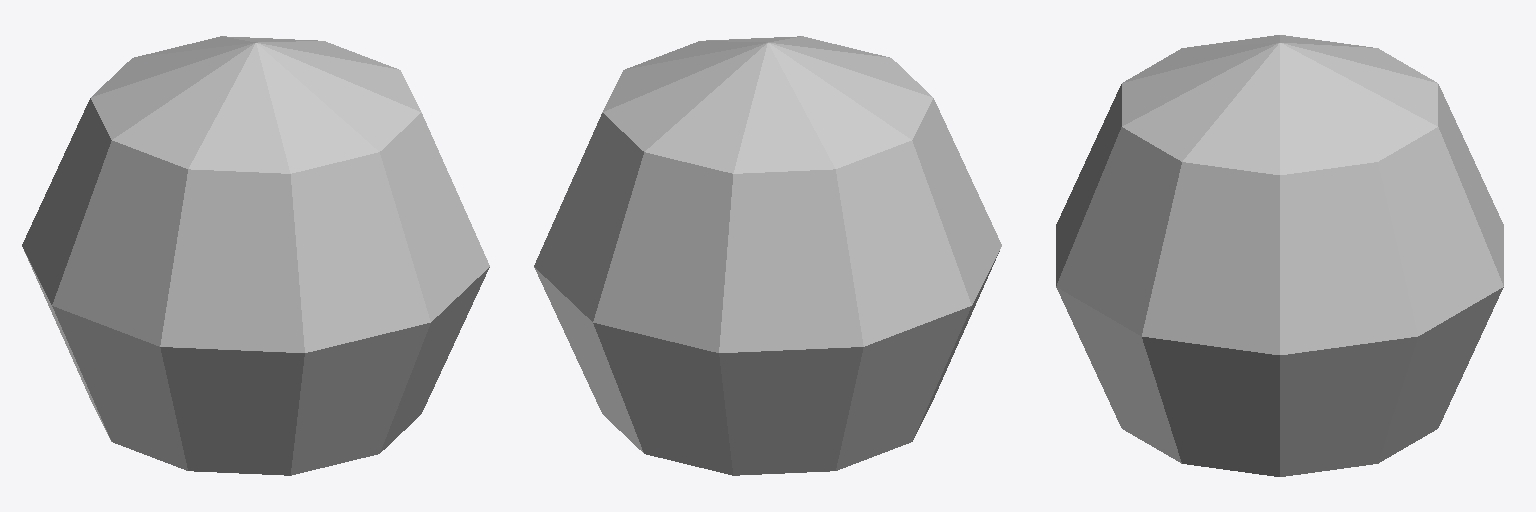
Rendered from Bullet.obj.
3 renders of one model, left to right at view 1: azimuth 30°, elevation 25°; view 2: azimuth 150°, elevation 25°; view 3: azimuth 270°, elevation 25°, orthographic.
Visible parts, largest first — view 1: Sphere; view 2: Sphere; view 3: Sphere.
Boxes of the visible parts, x1=… form: Sphere: x1=22, y1=36, x2=489, y2=475; Sphere: x1=534, y1=36, x2=1001, y2=475; Sphere: x1=1056, y1=35, x2=1503, y2=476.
Bounding box in the file's own units: 0.075 × 0.075 × 0.0713.